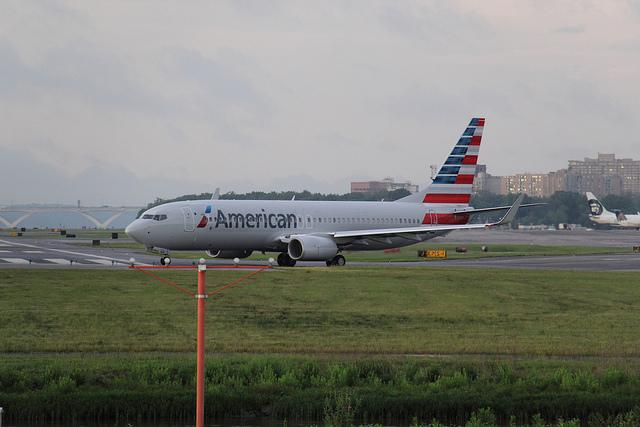airplane: (124, 115, 549, 270), (581, 189, 640, 232)
